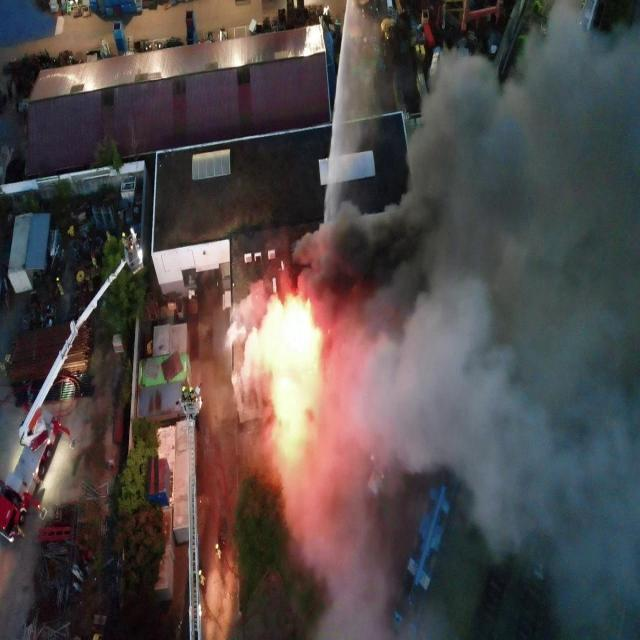Fire: (262, 300, 319, 360), (277, 376, 294, 397)
Smoke: (224, 0, 640, 640)
